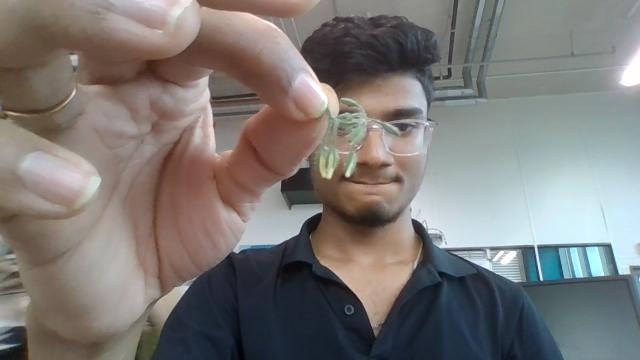Flower Bud: (335, 99, 400, 138), (318, 147, 338, 180), (335, 112, 365, 131), (372, 119, 402, 136), (343, 150, 358, 179), (348, 122, 366, 146), (322, 112, 338, 139), (338, 97, 363, 111)
